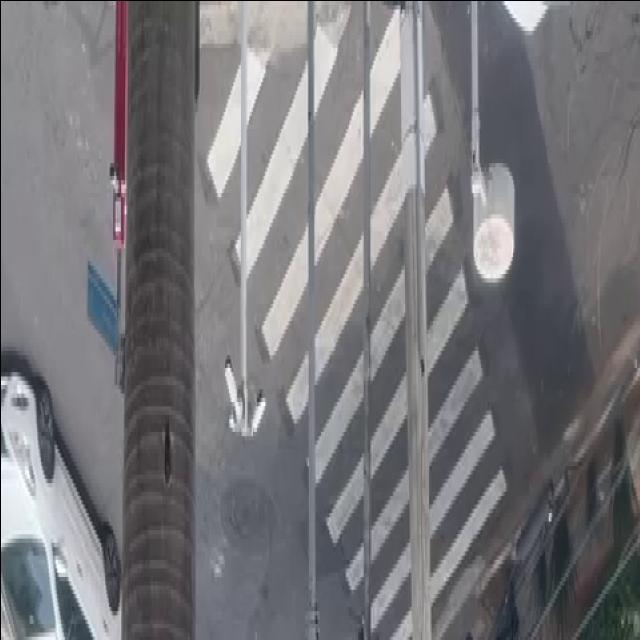car: (0, 339, 120, 637)
